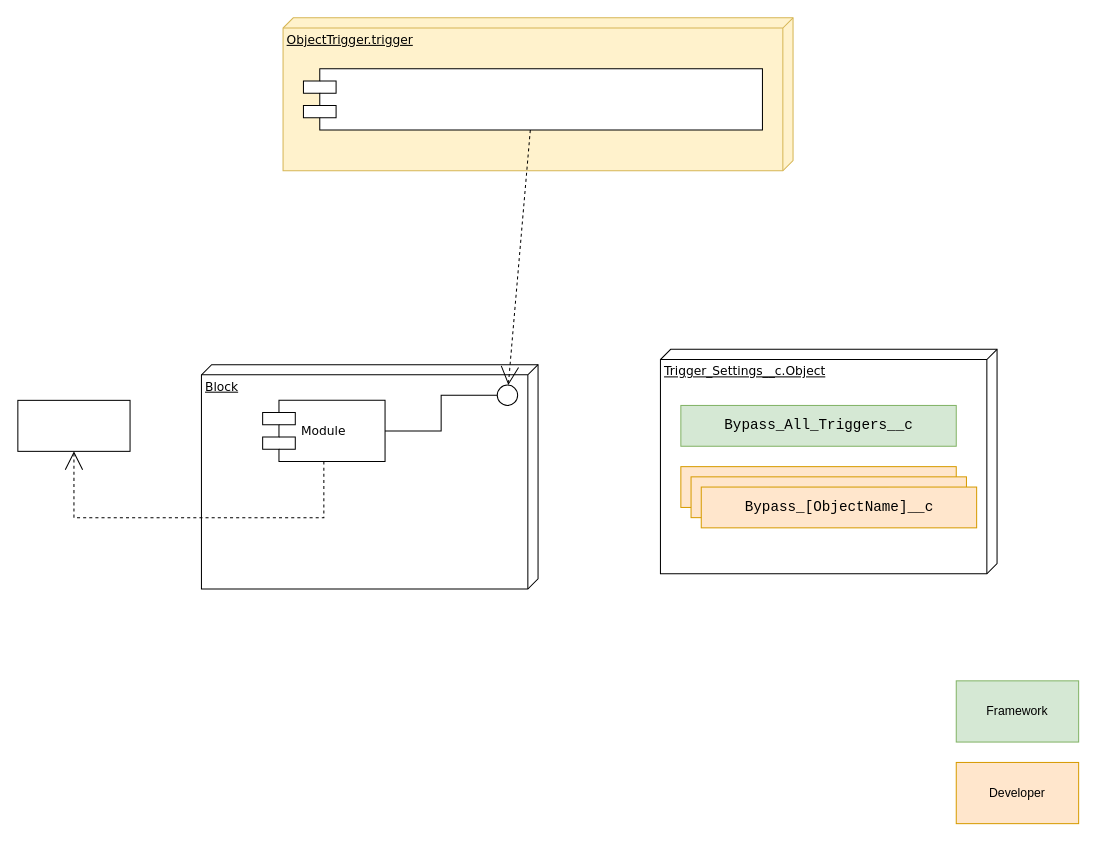
Image size: 1097x842. Some labels were removed from this diagram. Each missing label, with the centre of its shape:
TriggerFactory . createHandler ( [ObjectName] . sObjectType );: the point at 532,99
«interface» Name: the point at 73,425
